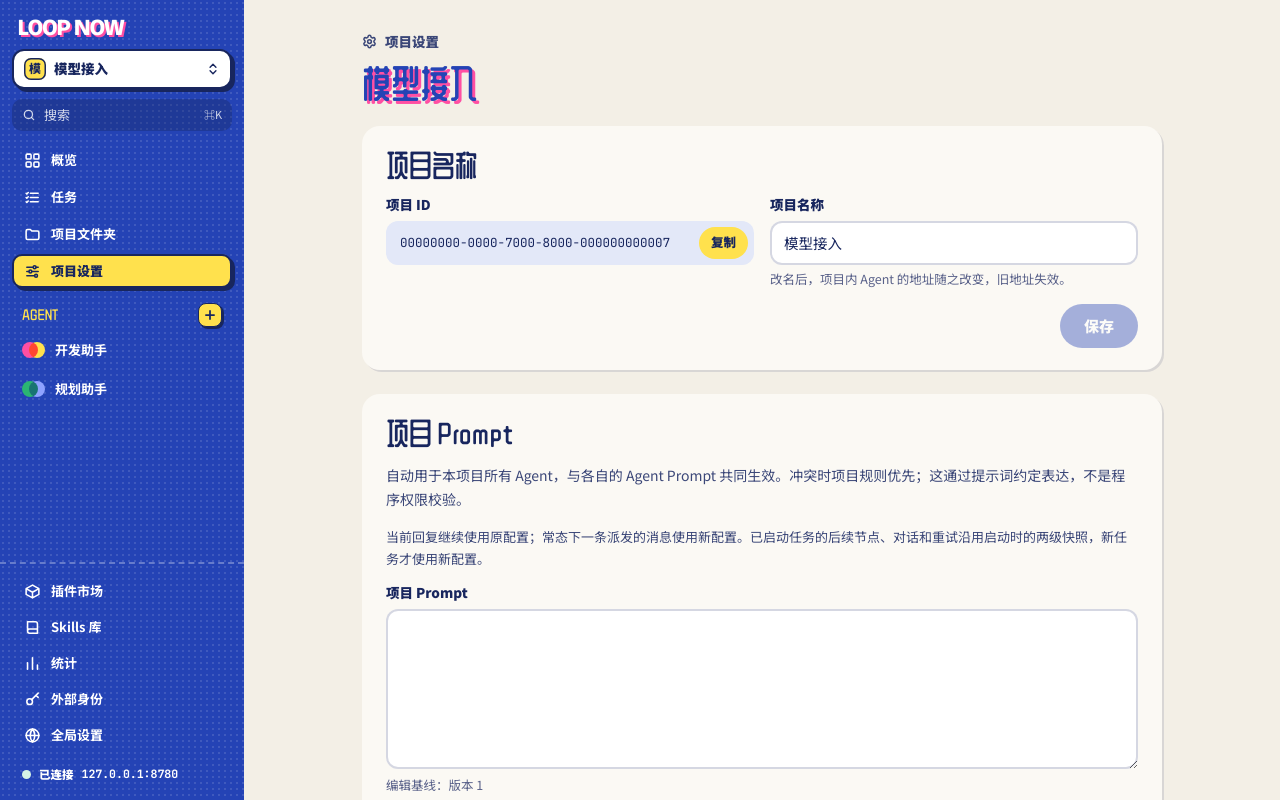
项目改名 › 重名时在名称旁说明，项目不变
Replace the text in the field labelled "项目名称" with "测试项目": (954, 243) [770,221,1138,265]
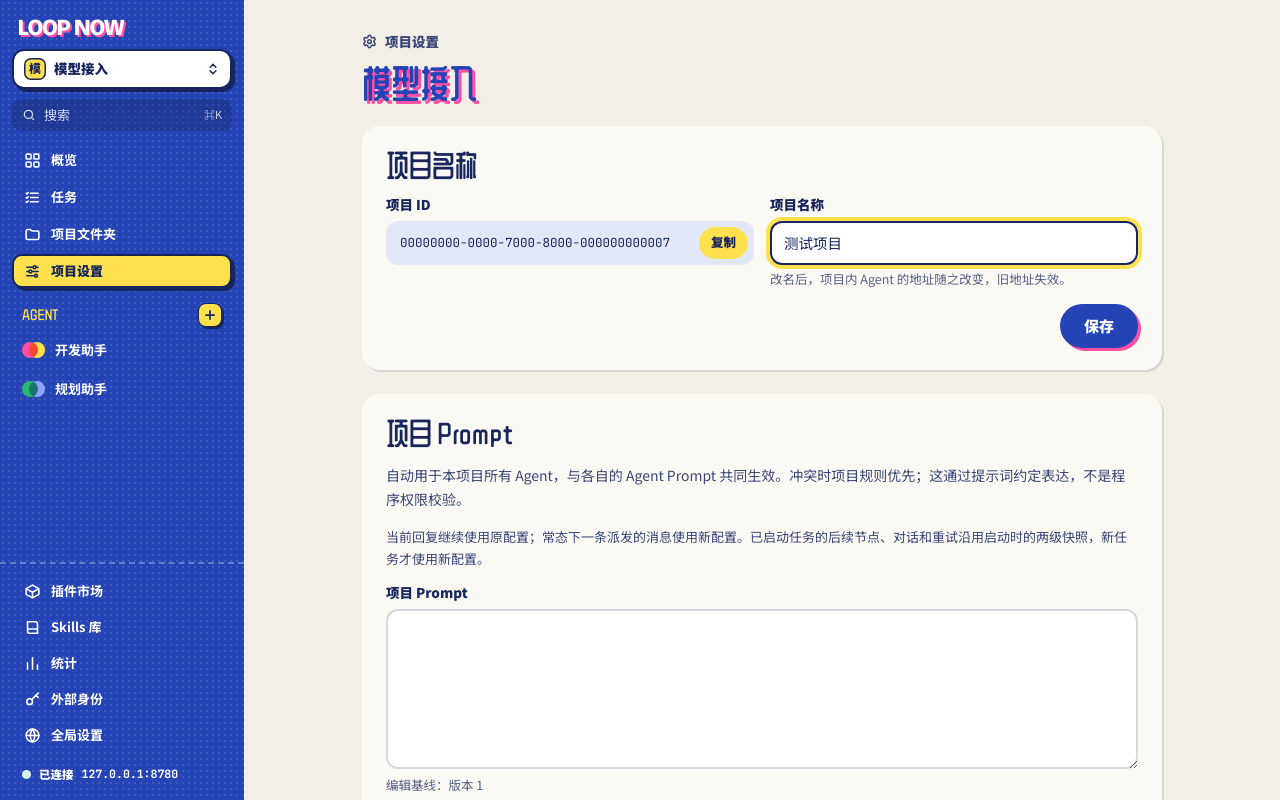
Click the button "保存": click(1099, 326) [1060,304,1138,348]
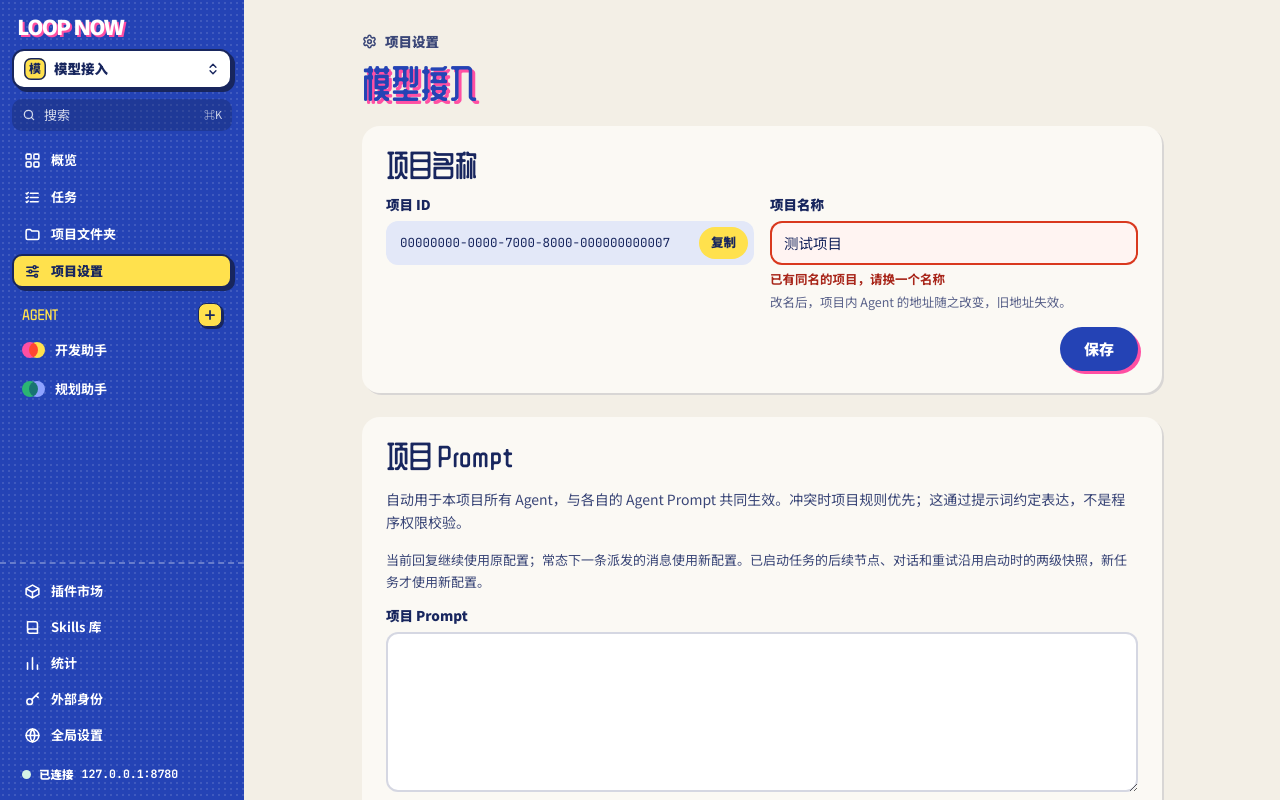
Expected: the text "已有同名的项目，请换一个名称" is shown, [770,271,945,287]
